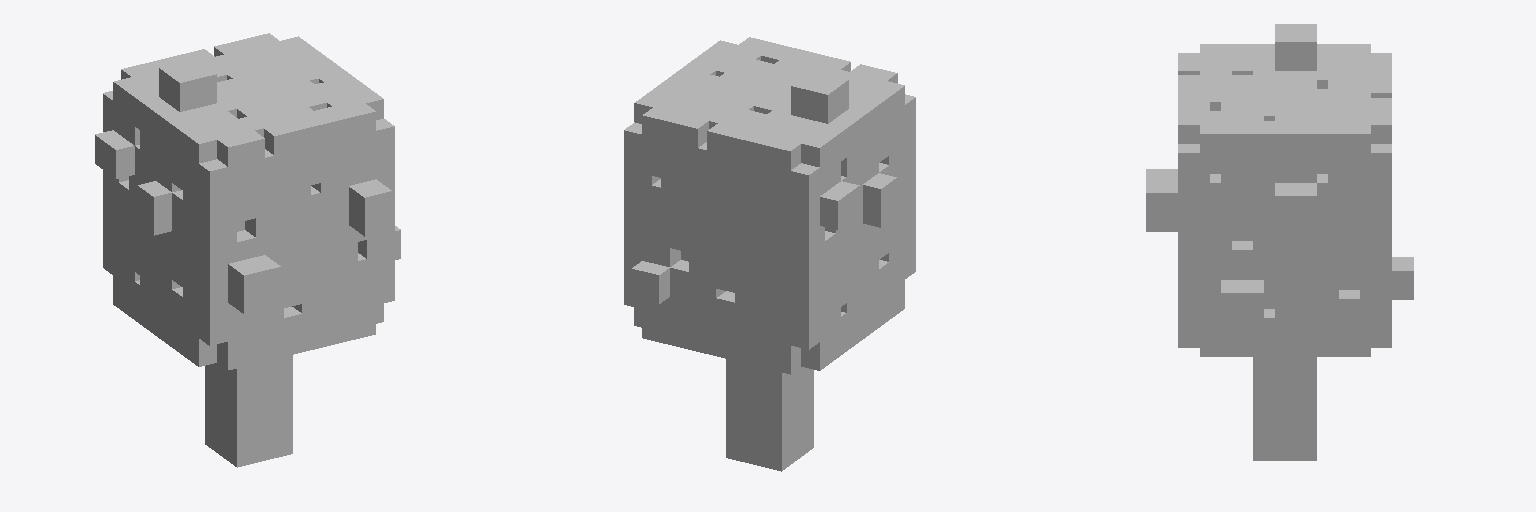
File: tree.obj
The picture shows the model from 3 angles: view 1: azimuth 30°, elevation 25°; view 2: azimuth 150°, elevation 25°; view 3: azimuth 270°, elevation 25°; orthographic projection.
Bounding box in the file's own units: 1 × 1.6 × 1.